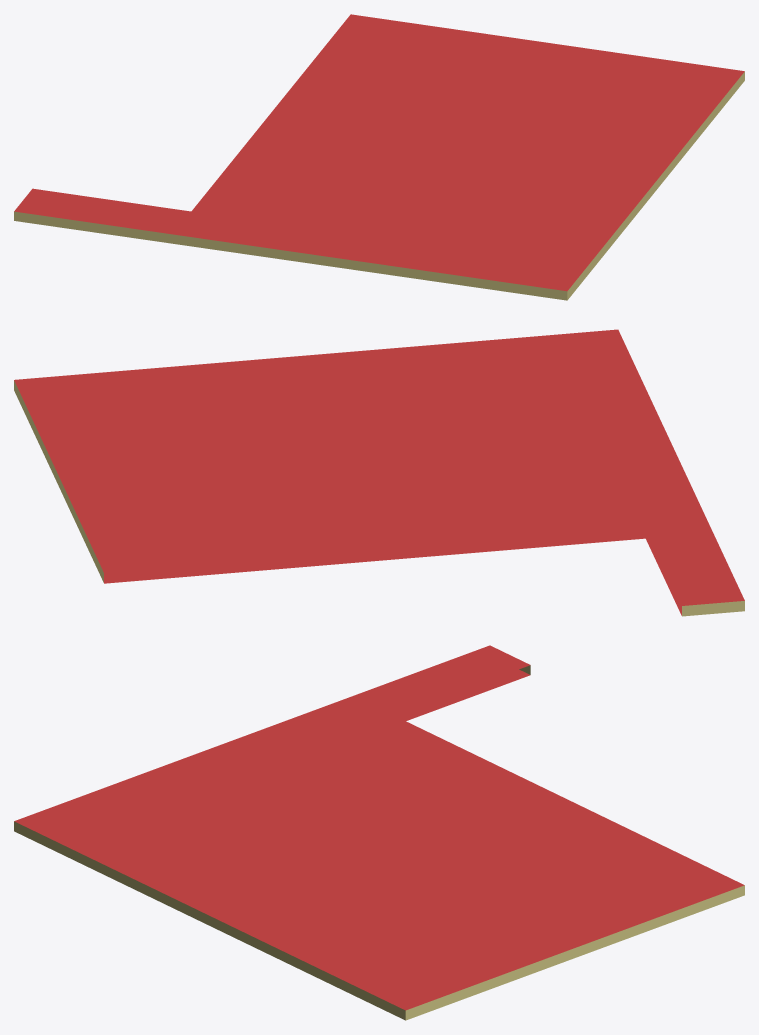
3 views of the same model, one above another, from view 1: azimuth 30°, elevation 25°; view 2: azimuth 150°, elevation 25°; view 3: azimuth 270°, elevation 25° (orthographic). The views are drawn at different scales.
Bounding box in the file's own units: 7.76 × 6.57 × 0.1.
